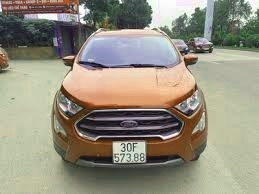Bien-so: (116, 139, 151, 162)
